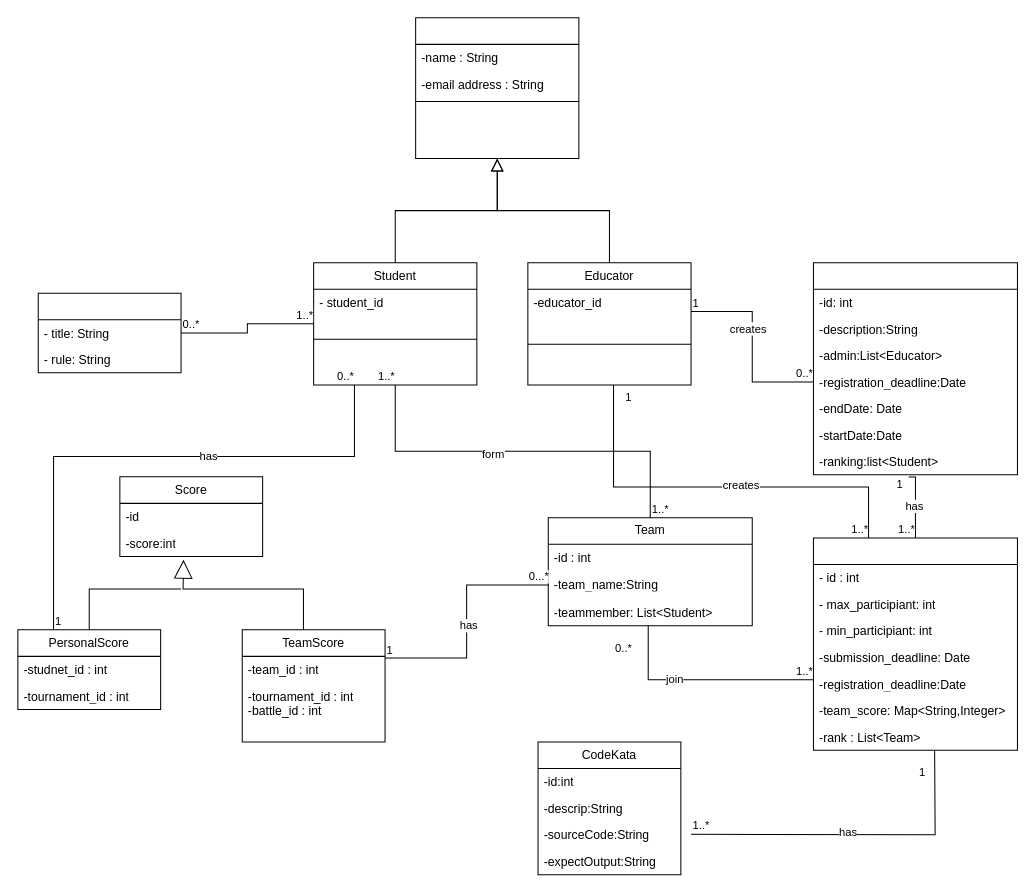
Image size: 1035x896. Some labels were removed from this diagram. The shapes that lost their labels are listed below. From the top down, each one's box as (x1, y1, x2, y2) in pixels, then its label:
(415, 17, 579, 159): User
(37, 292, 181, 373): Badges
(812, 262, 1017, 475): Tournament
(812, 537, 1017, 750): Battles
